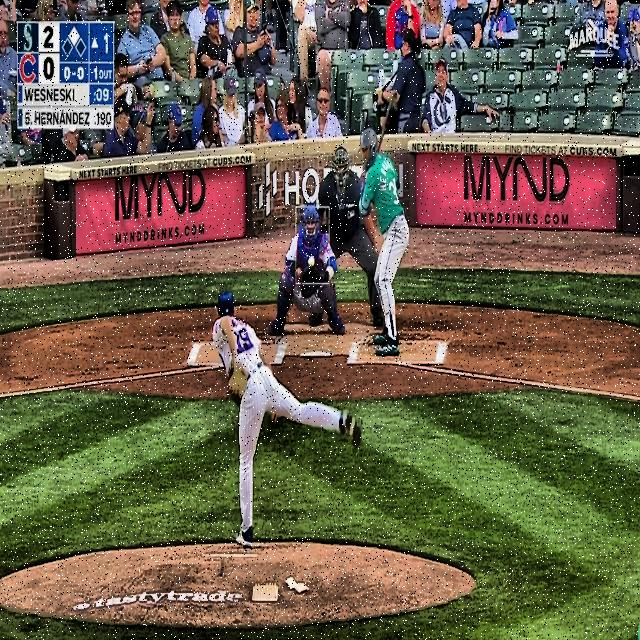baseball: (308, 255, 315, 267)
